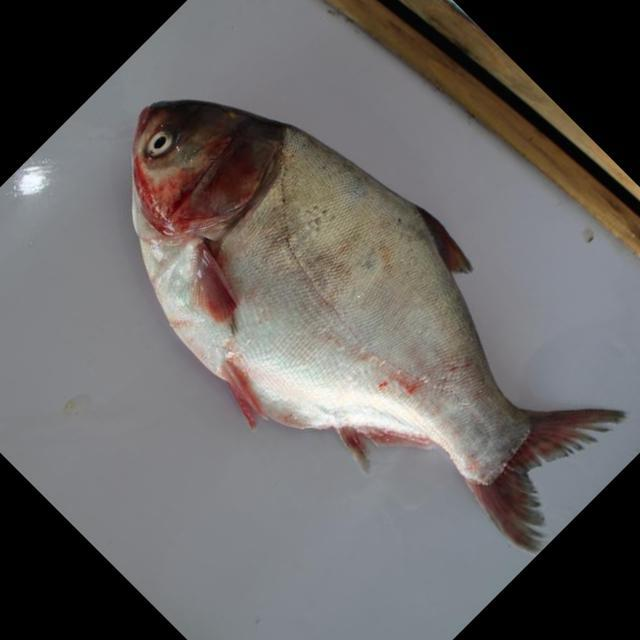SilverCarp: (98, 94, 609, 544)
